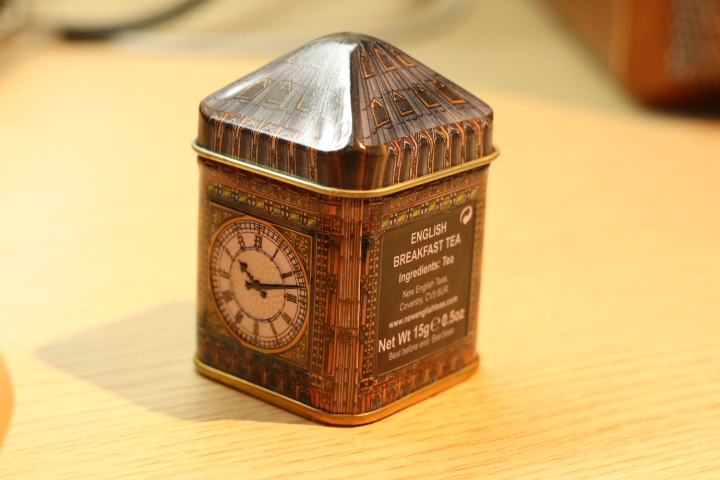Big Ben: (173, 19, 509, 445)
